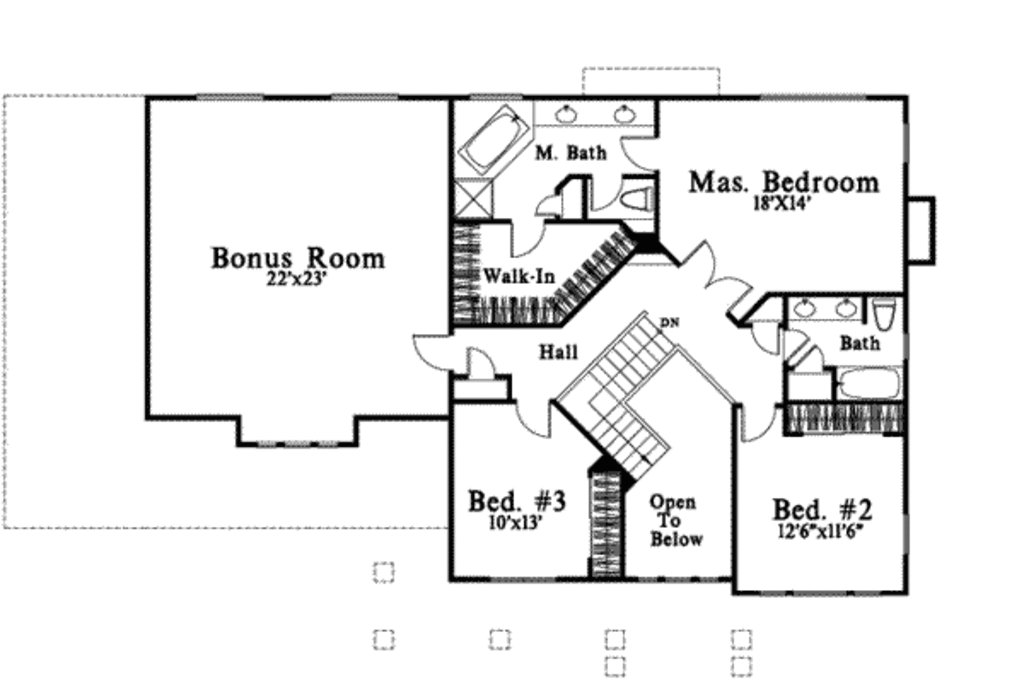door: (679, 233, 749, 312), (407, 330, 451, 374), (512, 398, 553, 442), (737, 400, 776, 444), (507, 219, 546, 260), (620, 133, 660, 172), (465, 339, 499, 378), (588, 175, 624, 209), (751, 321, 785, 356), (794, 343, 826, 372), (533, 193, 566, 216), (783, 328, 808, 358)
large_sink: (617, 183, 660, 216), (868, 296, 899, 333)
small_sink: (532, 98, 658, 129), (781, 293, 863, 319)
stairs: (556, 309, 678, 491)
tub: (456, 96, 532, 177), (833, 363, 904, 397)
window: (323, 85, 406, 105), (260, 438, 341, 452), (761, 91, 864, 102), (197, 91, 266, 105), (753, 591, 883, 598), (900, 508, 918, 558), (486, 575, 558, 584), (897, 118, 911, 161)
